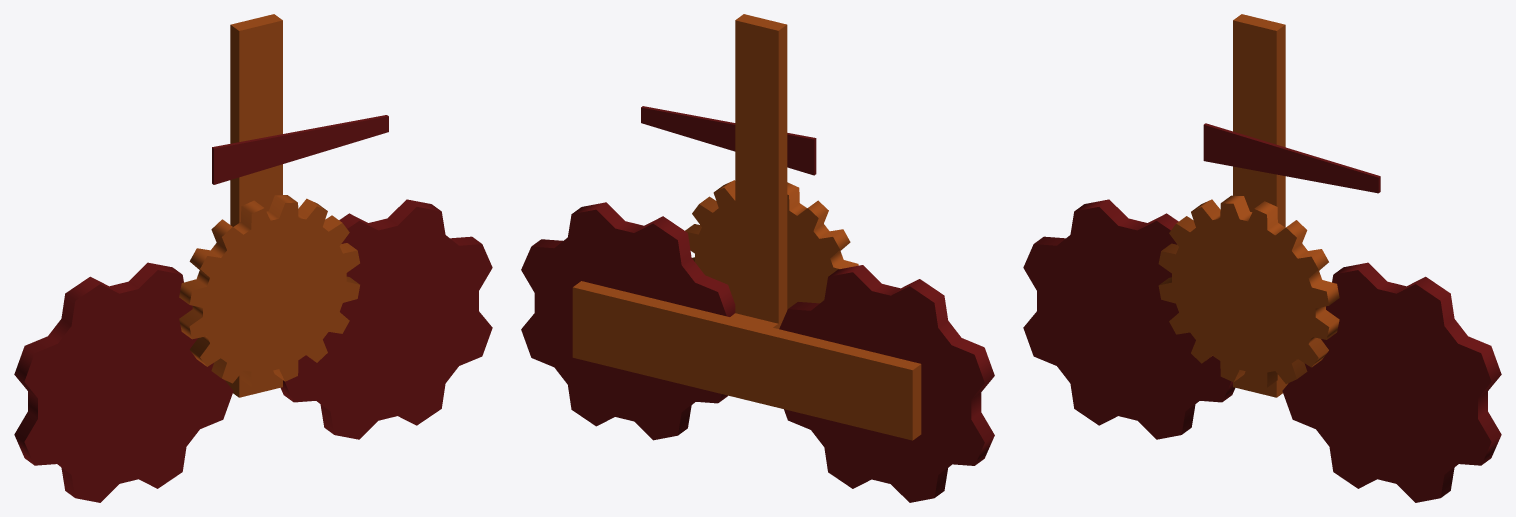
The model's file is Gear_02.FBX.
3 views of the same model, side by side, from view 1: azimuth 30°, elevation 25°; view 2: azimuth 150°, elevation 25°; view 3: azimuth 330°, elevation 25° (orthographic).
Visible parts, largest first — view 1: Star002, Star001, Star003, Box001, Box002; view 2: Box001, Star002, Star001, Star003, Box002; view 3: Star001, Star002, Star003, Box001, Box002.
Boxes of the visible parts, x1,y1,x2,y2 form: Star002: (14, 262, 233, 502); Star001: (280, 199, 492, 439); Star003: (179, 195, 359, 387); Box001: (225, 14, 282, 397); Box002: (212, 115, 388, 184); Box001: (572, 14, 921, 440); Star002: (779, 265, 994, 502); Star001: (521, 202, 735, 440); Star003: (685, 180, 858, 309); Box002: (641, 106, 816, 175); Star001: (1282, 262, 1501, 502); Star002: (1023, 199, 1235, 439); Star003: (1158, 195, 1339, 387); Box001: (1233, 14, 1288, 397); Box002: (1203, 123, 1380, 193).
Size of the model in its own units: 102 by 91.74 by 13.35.
